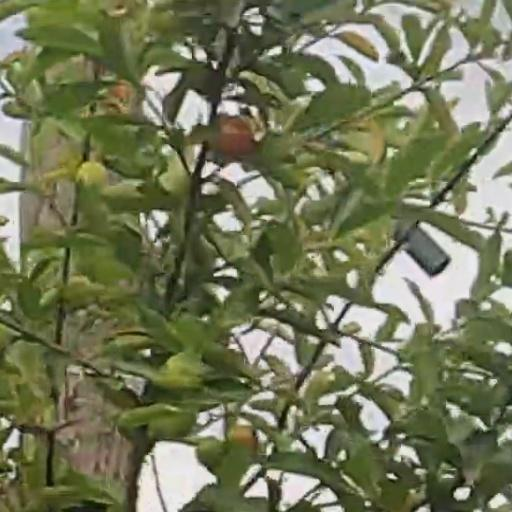acerola_verde: (77, 162, 105, 182)
acerola_vermelha: (215, 119, 256, 157)
